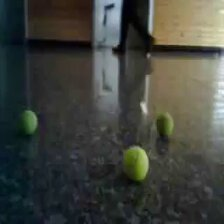tennis: (121, 145, 149, 183), (18, 109, 38, 135), (155, 114, 175, 140)
